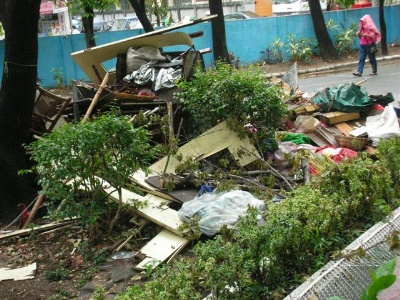bowl: (334, 135, 369, 150)
box: (317, 111, 361, 126)
plastic_bag: (182, 190, 262, 230), (314, 84, 372, 111), (275, 142, 317, 166), (367, 108, 400, 138)
